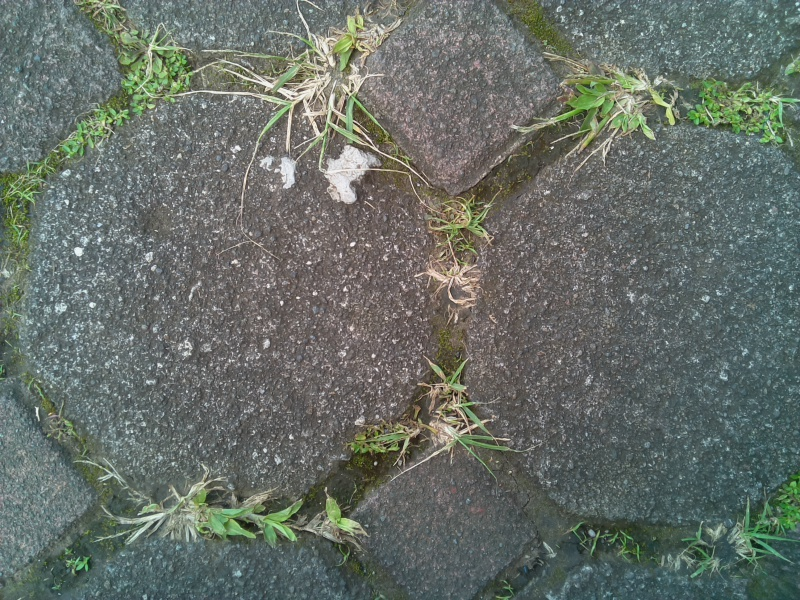Weed: (252, 17, 396, 160), (116, 474, 298, 553), (548, 56, 655, 146), (690, 67, 790, 161), (114, 27, 191, 111), (421, 406, 503, 475), (46, 97, 115, 175), (730, 490, 786, 584), (313, 472, 366, 562), (425, 196, 504, 256), (414, 256, 481, 313), (675, 510, 724, 585), (411, 354, 479, 407), (351, 420, 414, 467), (63, 548, 95, 580)
